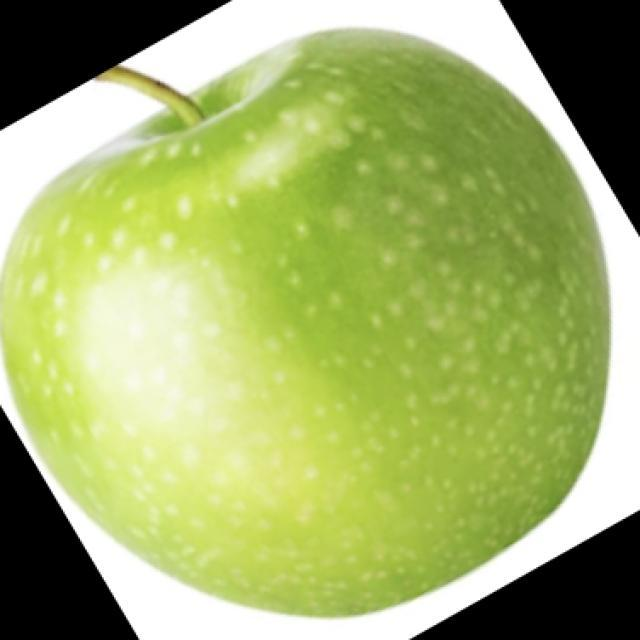Fresh Apple: (40, 47, 587, 620)
